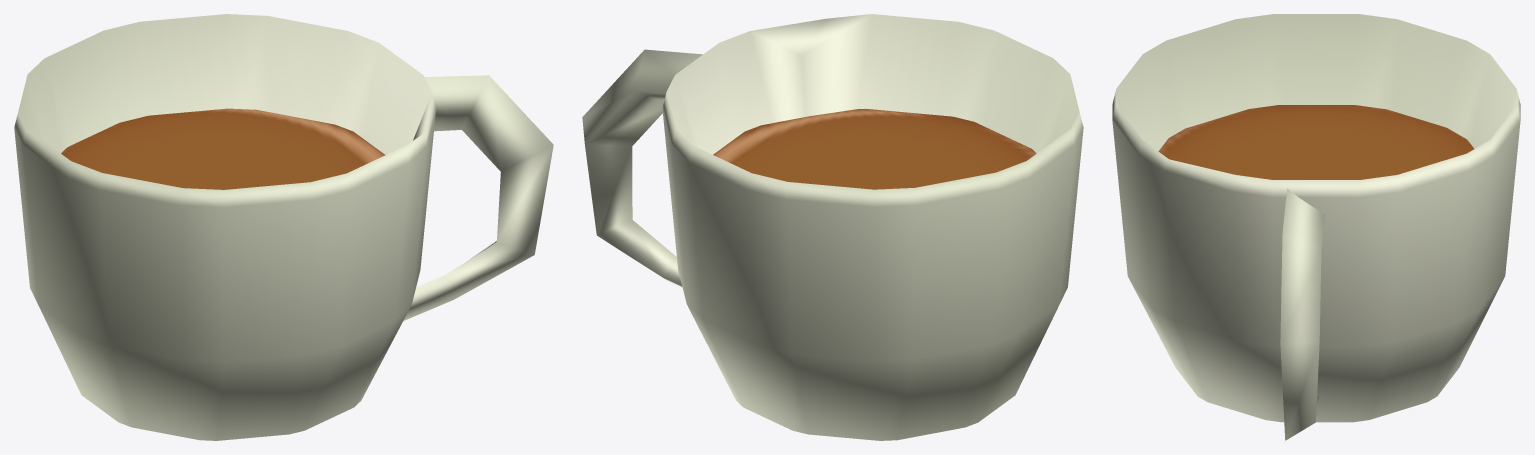
File: Coffee_Cup_B.FBX
3 views of the same model, side by side, from view 1: azimuth 30°, elevation 25°; view 2: azimuth 150°, elevation 25°; view 3: azimuth 270°, elevation 25° (orthographic). The views are drawn at different scales.
Parts seen in each view (by area): view 1: Cup; view 2: Cup; view 3: Cup.
Boxes of the visible parts, bbox=[...] form: Cup: bbox=[14, 14, 553, 440]; Cup: bbox=[582, 14, 1083, 440]; Cup: bbox=[1112, 14, 1520, 440].
Size of the model in its own units: 45.6 by 24.65 by 34.07.
